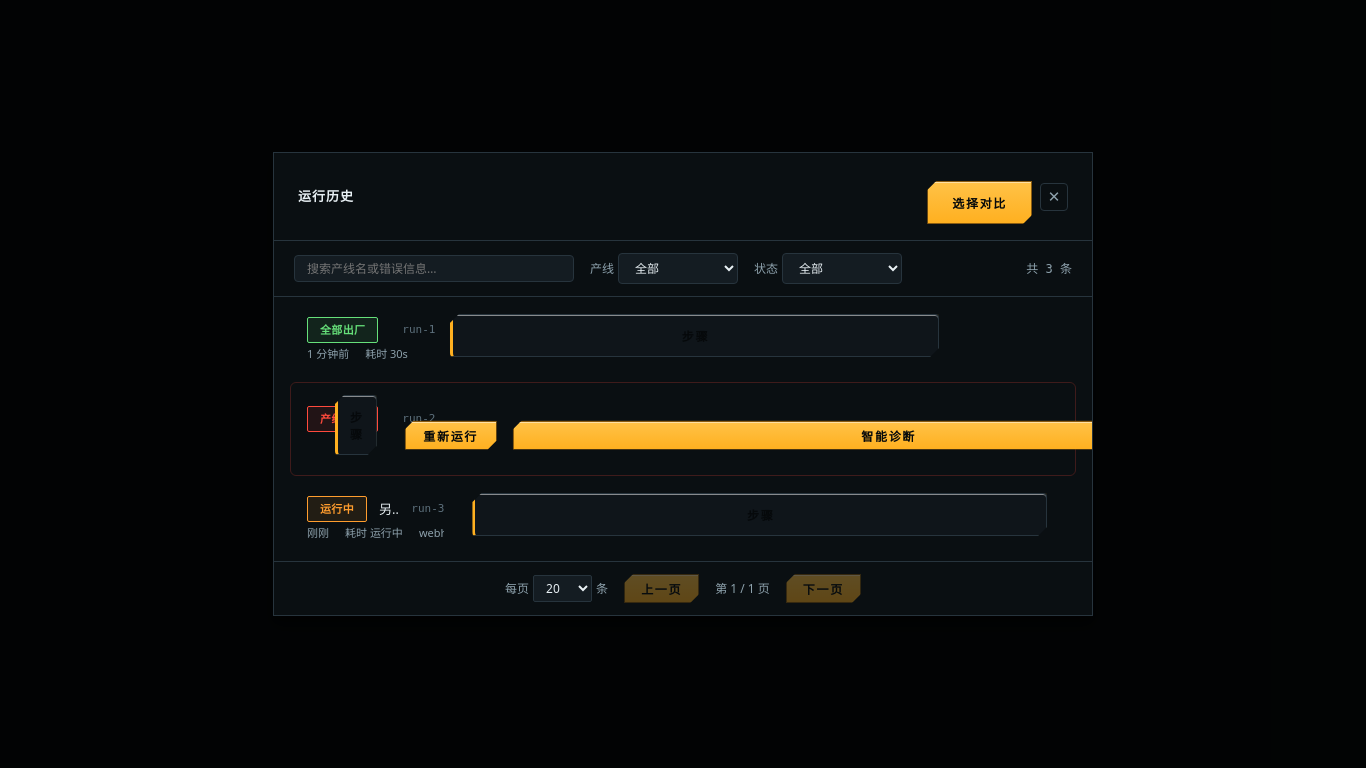
Test: RunHistory › 选择对比模式 › 点击'选择对比'进入对比模式
The image size is (1366, 768).
Expected: the heading "运行历史" is shown, [298,187,354,206]
Click the button "选择对比".
click(980, 202)  # box [927,181,1032,224]
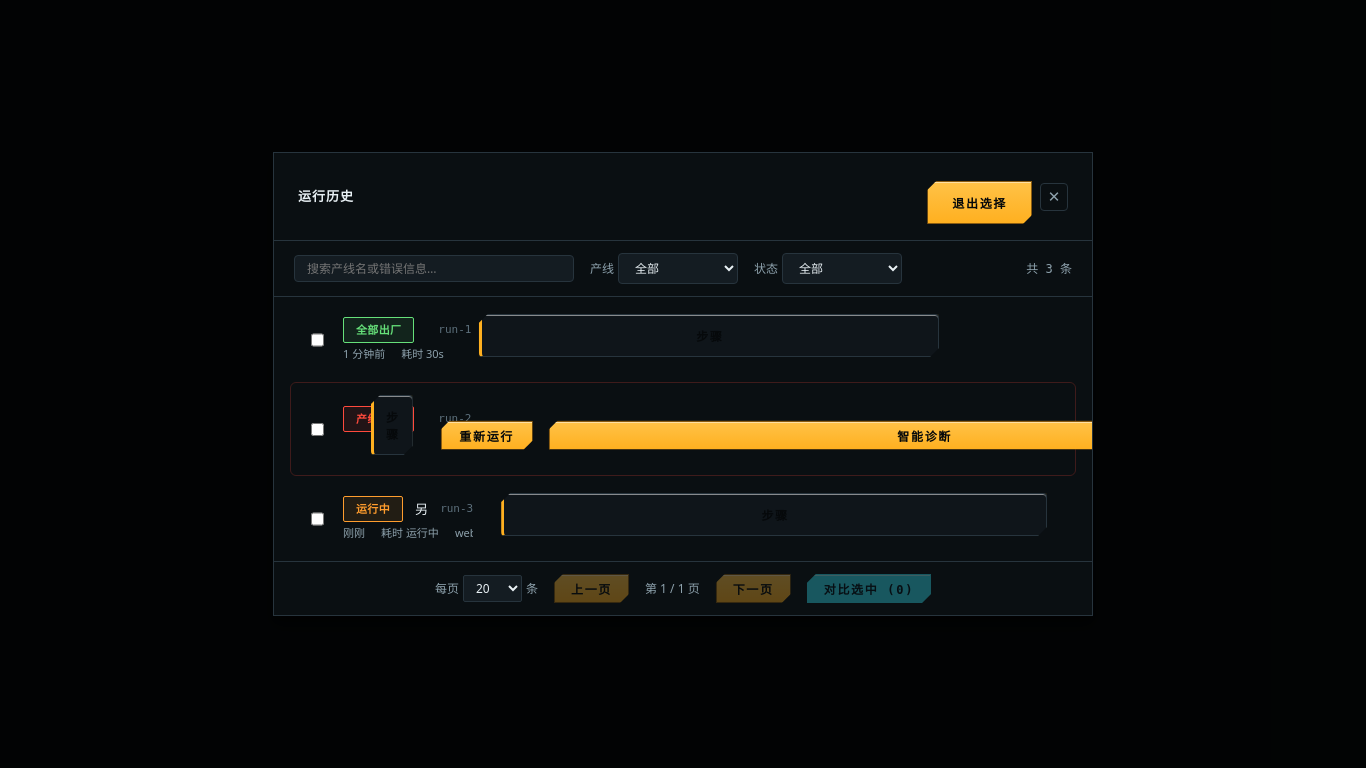
Expected: the button "退出选择" is shown, [927,181,1032,224]
